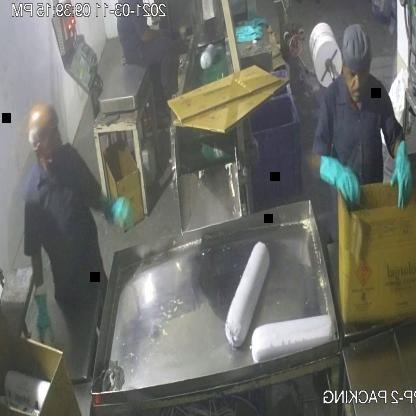glove: (380, 131, 414, 216), (316, 149, 361, 203)
